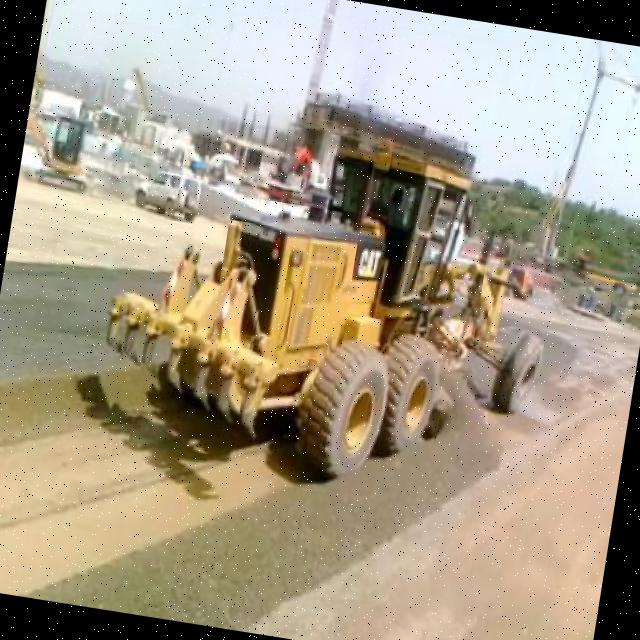Excavator: (18, 106, 99, 190)
Grader: (82, 56, 580, 520)
